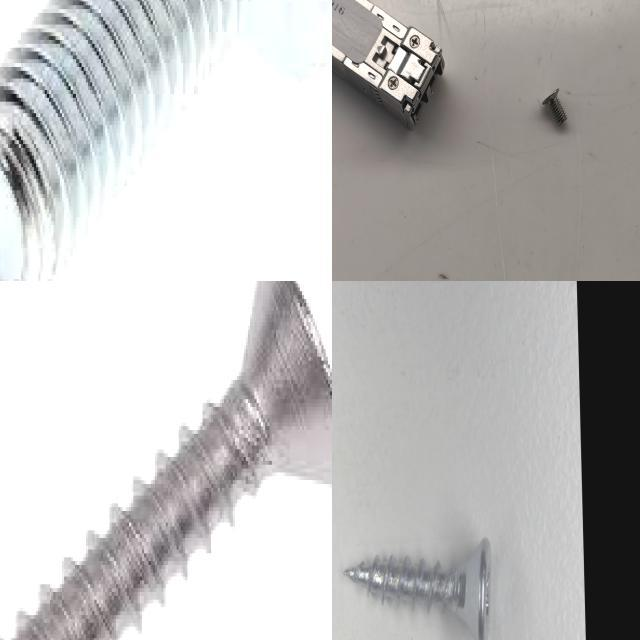Screw: (0, 281, 332, 640), (0, 0, 332, 281), (344, 538, 492, 640), (541, 86, 570, 130)
